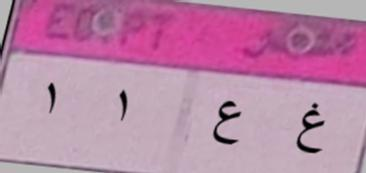1: (100, 80, 148, 128), (35, 68, 78, 120)
ain: (206, 92, 249, 151)
ghayn: (288, 97, 332, 161)
